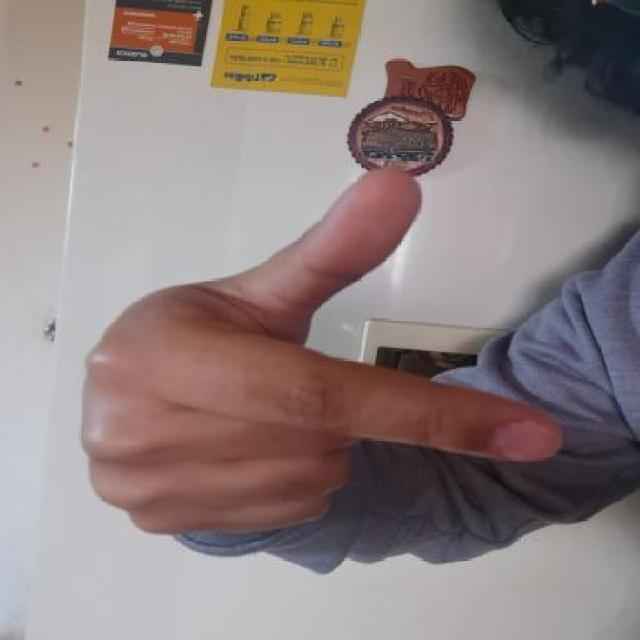G: (48, 169, 595, 556)
